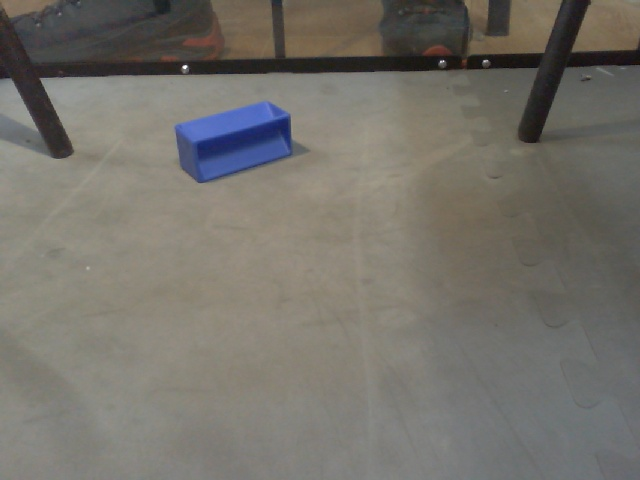BlueSample: (169, 99, 301, 185)
